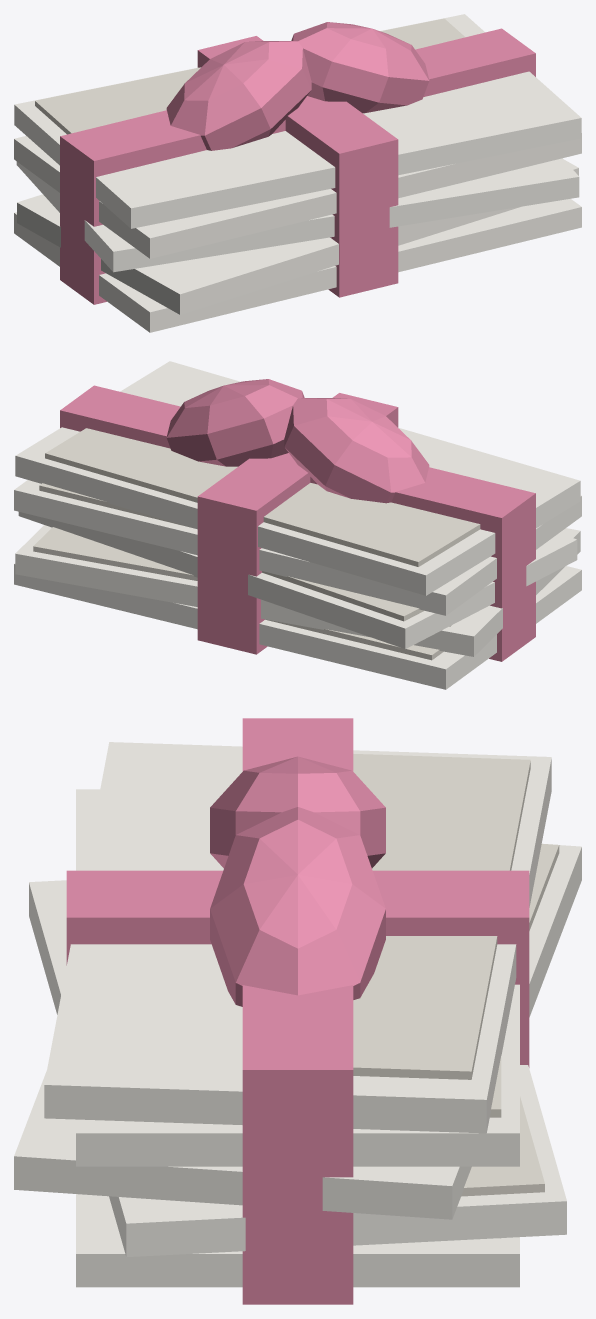
File: gift_envelopes.glb
The picture shows the model from 3 angles, top to bottom: view 1: azimuth 30°, elevation 25°; view 2: azimuth 150°, elevation 25°; view 3: azimuth 270°, elevation 25°; orthographic projection. The views are drawn at different scales.
Visible parts, largest first — view 1: paper_envelope_paper, ribbon_wedding_pink, paper_envelope_flap; view 2: paper_envelope_paper, ribbon_wedding_pink, paper_envelope_flap; view 3: paper_envelope_paper, ribbon_wedding_pink, paper_envelope_flap.
Boxes of the visible parts, left/top/right/bottom form: paper_envelope_paper: left=14, top=14, right=581, bottom=332; ribbon_wedding_pink: left=60, top=22, right=535, bottom=304; paper_envelope_flap: left=35, top=18, right=464, bottom=134; paper_envelope_paper: left=14, top=361, right=581, bottom=689; ribbon_wedding_pink: left=60, top=379, right=535, bottom=661; paper_envelope_flap: left=33, top=428, right=480, bottom=660; paper_envelope_paper: left=14, top=742, right=581, bottom=1287; ribbon_wedding_pink: left=66, top=718, right=529, bottom=1304; paper_envelope_flap: left=353, top=754, right=559, bottom=1238.
Bounding box in the file's own units: 0.2363 × 0.0991 × 0.1535.
